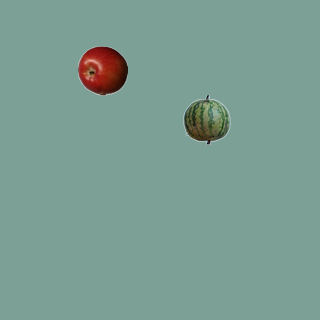Apple Braeburn: (77, 45, 127, 95)
Watermelon: (181, 94, 231, 144)
